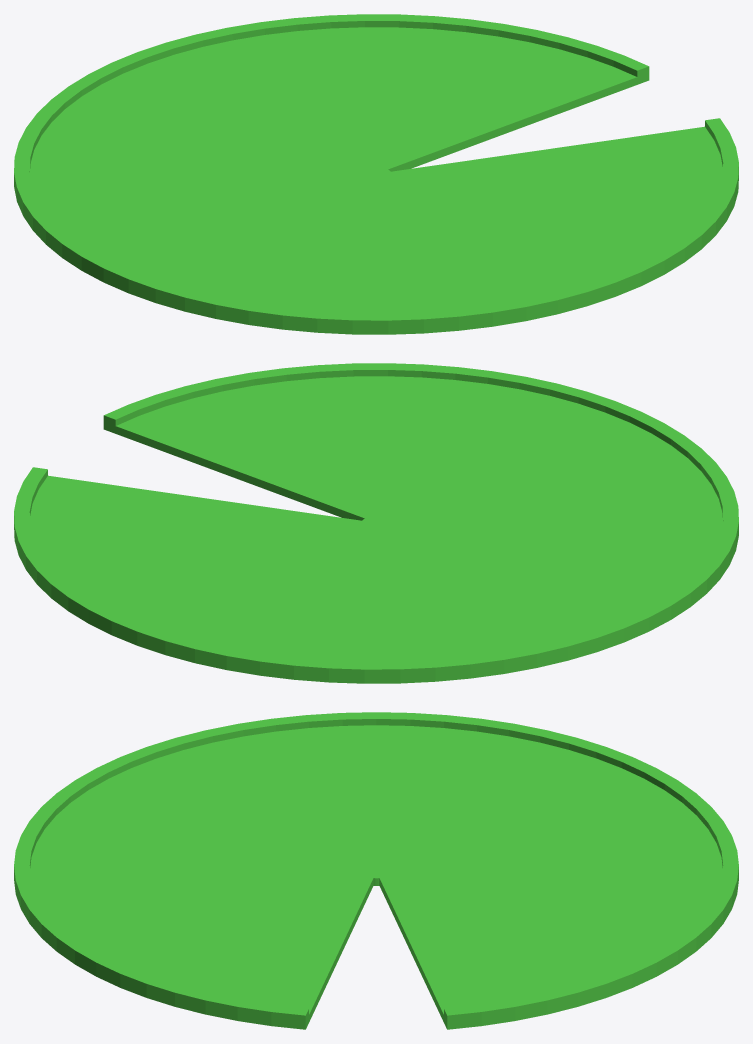
File: Lilypad_1.fbx
3 views of the same model, one above another, from view 1: azimuth 30°, elevation 25°; view 2: azimuth 150°, elevation 25°; view 3: azimuth 270°, elevation 25° (orthographic).
Visible parts, largest first — view 1: Cylinder; view 2: Cylinder; view 3: Cylinder.
Part boxes in pixels (x1,y1,x2,y2): Cylinder: [14, 14, 738, 334]; Cylinder: [14, 363, 738, 683]; Cylinder: [14, 712, 738, 1029].
Bounding box in the file's own units: 1981 × 2000 × 43.07.
